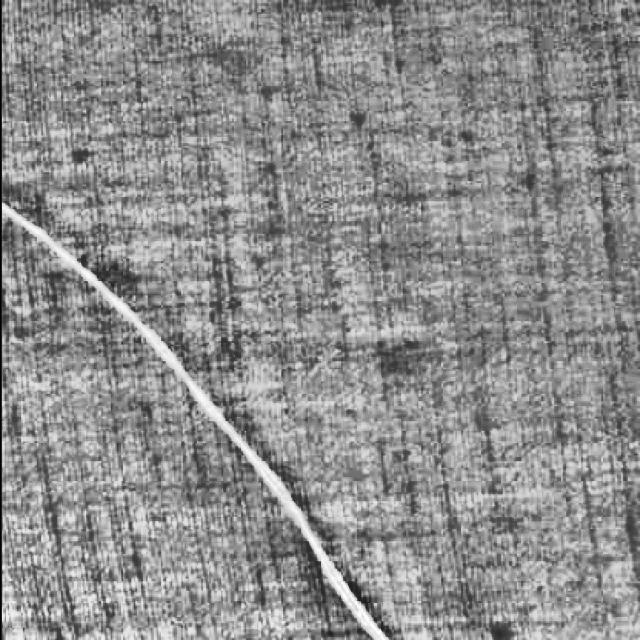objects: (2, 186, 404, 640)
